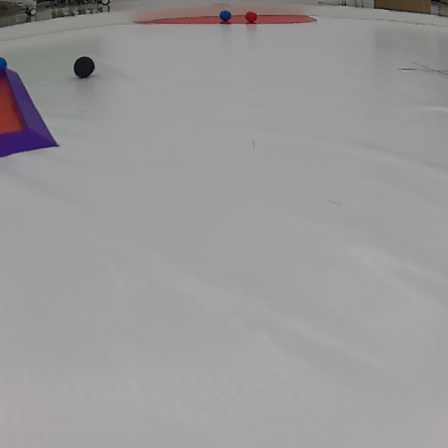black: (75, 57, 95, 73)
blue: (0, 58, 11, 68), (221, 10, 232, 20)
red: (245, 12, 258, 20)
red_aim: (0, 66, 65, 156)
red_base: (135, 12, 324, 27)
